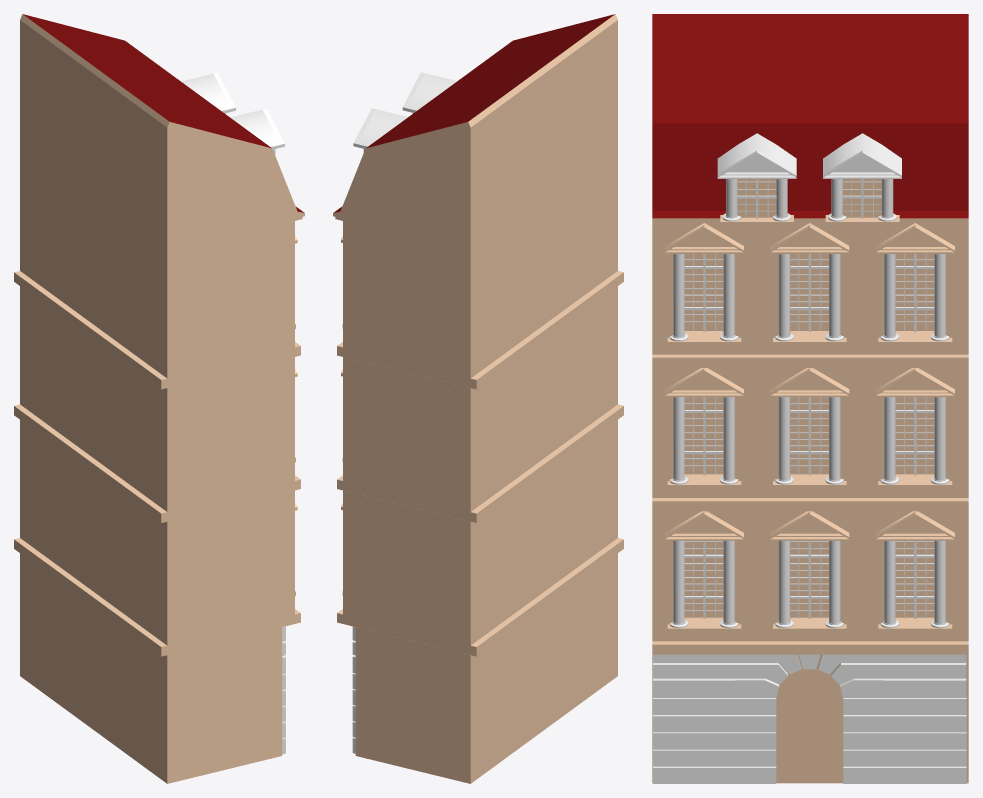
File: Kamienice.FBX
3 views of the same model, side by side, from view 1: azimuth 30°, elevation 25°; view 2: azimuth 150°, elevation 25°; view 3: azimuth 270°, elevation 25° (orthographic). The views are drawn at different scales.
Parts seen in each view (by area): view 1: Box001, Line024, Line025; view 2: Box001, Line025, Line024; view 3: Box001, Cylinder001, Line025, Line024, Box214, Box218, Box219, Box220, Box221, Box213, Box215, Box216 (+42 smaller).
Boxes of the visible parts, <box> form: Box001: <box>14,14,304,783</box>; Line024: <box>230,108,284,154</box>; Line025: <box>181,72,235,113</box>; Box001: <box>333,14,623,783</box>; Line025: <box>353,108,407,152</box>; Line024: <box>402,72,457,113</box>; Box001: <box>652,14,968,783</box>; Cylinder001: <box>652,654,966,697</box>; Line025: <box>823,133,901,221</box>; Line024: <box>717,133,796,221</box>; Box214: <box>653,732,776,749</box>; Box218: <box>843,715,966,732</box>; Box219: <box>843,732,966,749</box>; Box220: <box>843,749,966,766</box>; Box221: <box>843,766,966,783</box>; Box213: <box>653,715,776,732</box>; Box215: <box>653,749,776,766</box>; Box216: <box>653,766,776,783</box>.
Bounding box in the file's own units: 36.25 × 60 × 149.
